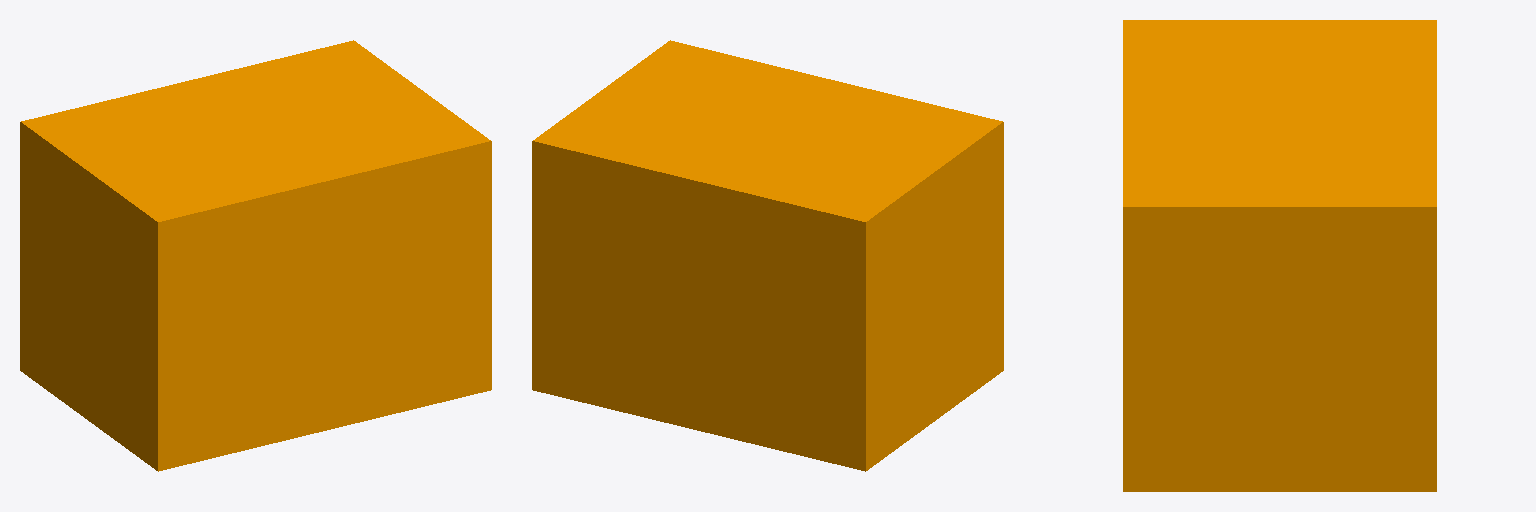
URDF robot description (block_red):
<?xml version="1.0"?>
<!-- color: orange -->
<robot name="block_red">
  <link name="base_link">
    <contact>
      <lateral_friction value="0.7"/>
      <spinning_friction value=".001"/>
    </contact>
    <inertial>
      <origin rpy="0 0 0" xyz="0 0 0"/>
      <mass value="1"/>
      <inertia ixx="1" ixy="0" ixz="0" iyy="1" iyz="0" izz="1"/>
    </inertial>
    <visual>
      <origin rpy="0 0 0" xyz="0.0 0.0 0.0"/>
      <geometry>
        <box size="0.07 0.05 0.05"/>
      </geometry>
      <material name="orange">
        <color rgba="1.0 0.65 0.0 1.0"/>
      </material>
    </visual>
    <collision>
      <origin rpy="0 0 0" xyz="0.0 0.0 0.0"/>
      <geometry>
        <box size="0.07 0.05 0.05"/>
      </geometry>
    </collision>
  </link>
</robot>

--- Render facts (derived) ---
3 views of the same robot in one strip: view 1: azimuth 30°, elevation 25°; view 2: azimuth 150°, elevation 25°; view 3: azimuth 270°, elevation 25° (orthographic).
Robot: block_red — 1 links, 0 joints (none); root link base_link; default pose: all joints at 0.
Visible links, largest first — view 1: base_link; view 2: base_link; view 3: base_link.
Boxes of the visible links, x1,y1,x2,y2 form: base_link: (20,40,491,471); base_link: (532,40,1003,471); base_link: (1123,20,1436,491).
Bounding box of the posed robot: 0.07 × 0.05 × 0.05 m (x, y, z).
Geometry: primitives only (box / cylinder / sphere), no mesh files.
